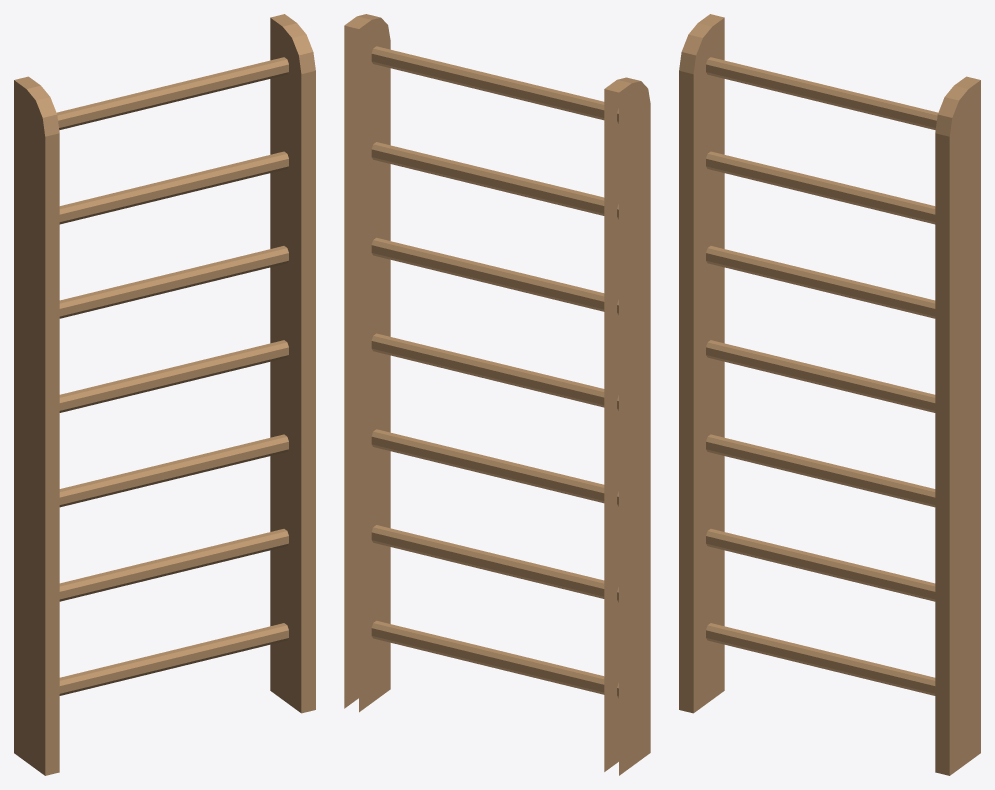
Rendered from 6 swedish wall.fbx.
3 renders of one model, left to right at view 1: azimuth 30°, elevation 25°; view 2: azimuth 150°, elevation 25°; view 3: azimuth 330°, elevation 25°, orthographic.
Parts seen in each view (by area): view 1: 5 swedish wall; view 2: 5 swedish wall; view 3: 5 swedish wall.
Boxes of the visible parts, x1=… form: 5 swedish wall: x1=14, y1=14, x2=315, y2=775; 5 swedish wall: x1=344, y1=14, x2=650, y2=775; 5 swedish wall: x1=679, y1=14, x2=980, y2=775.
Bounding box in the file's own units: 48.8 × 116 × 9.73.
